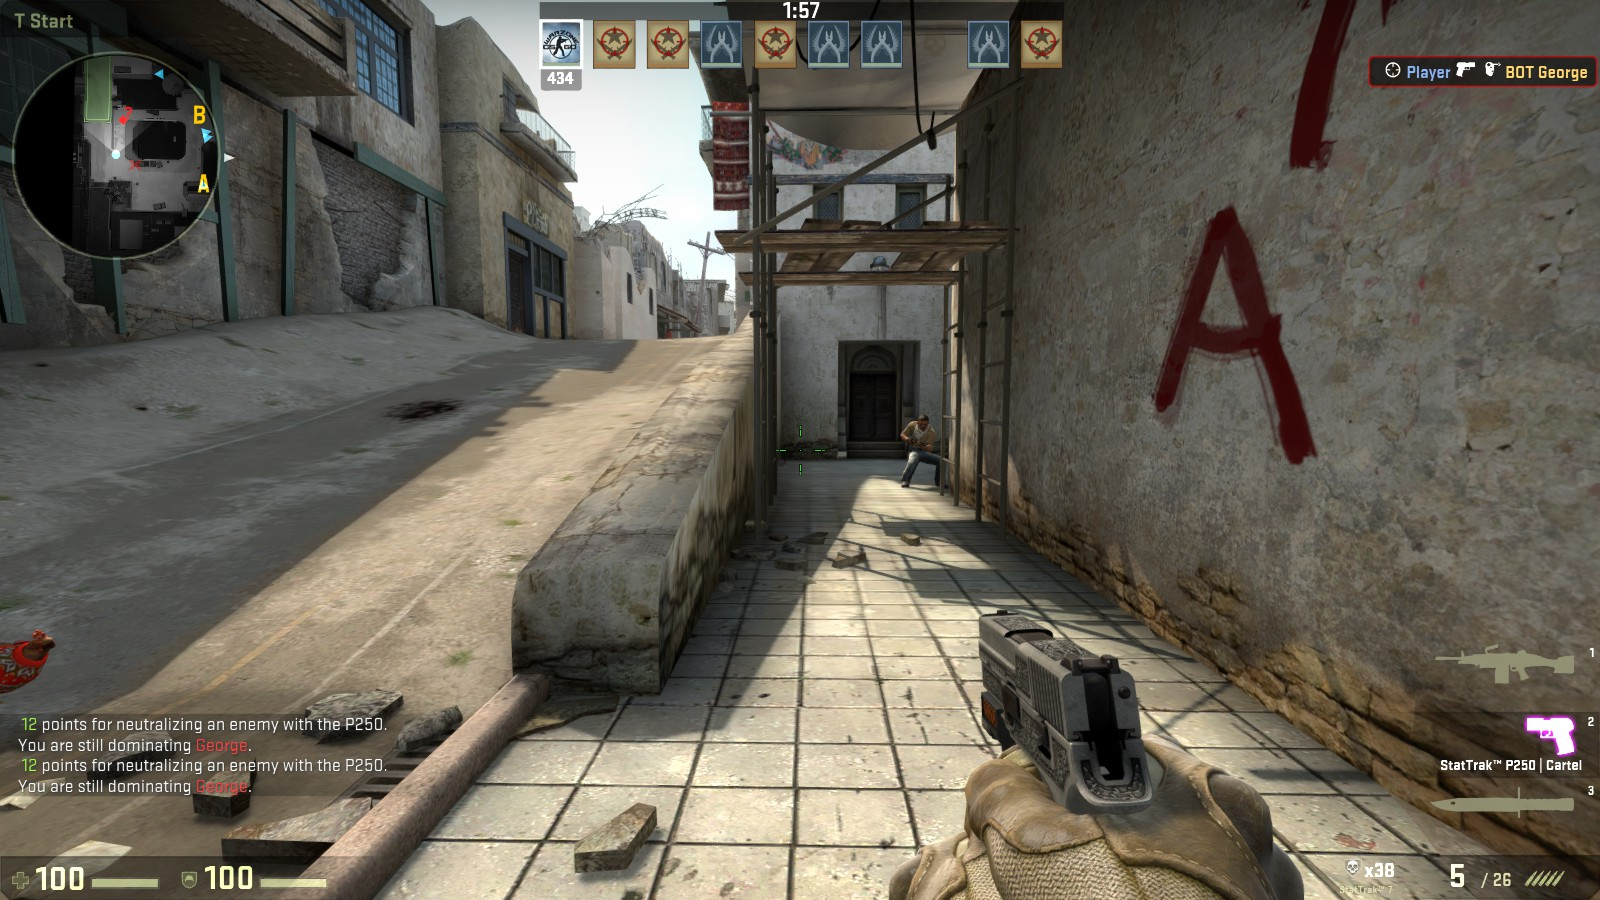t: (900, 413, 945, 488)
th: (916, 413, 930, 430)
